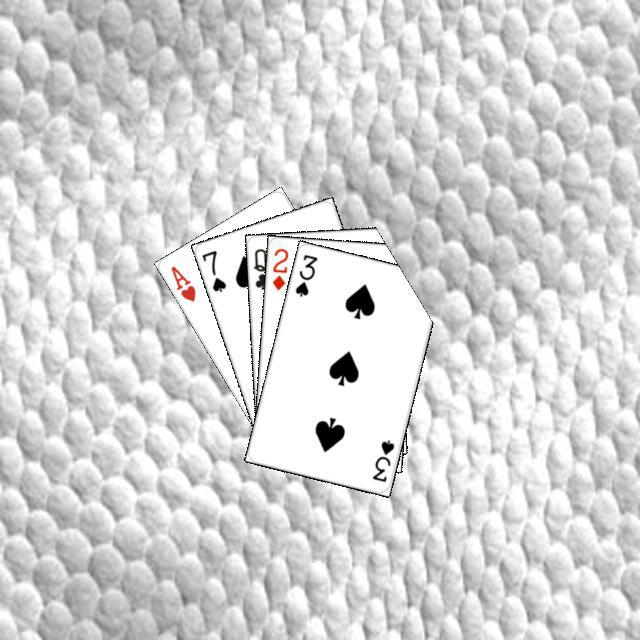2d: (267, 243, 290, 292)
3s: (290, 249, 319, 298), (367, 435, 396, 484)
7s: (197, 245, 228, 294)
Ah: (165, 261, 197, 303)
Qc: (249, 243, 275, 295)
